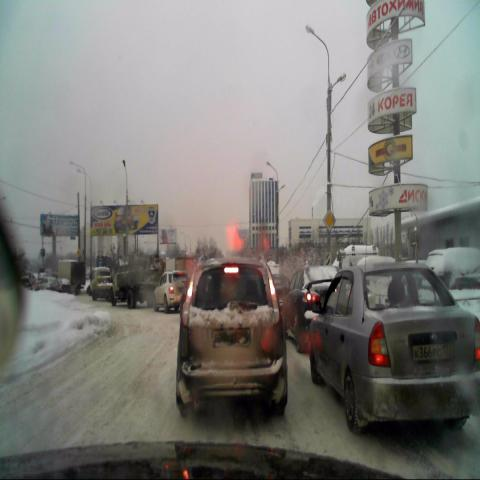2_1: (322, 207, 335, 233)
